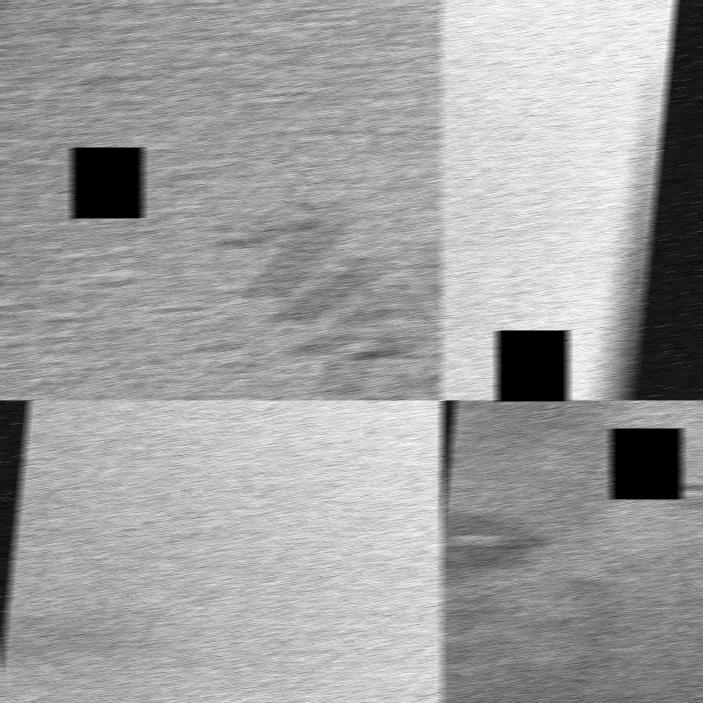Airbag: (0, 0, 443, 400), (3, 400, 443, 703), (441, 0, 677, 400), (441, 400, 703, 703)
